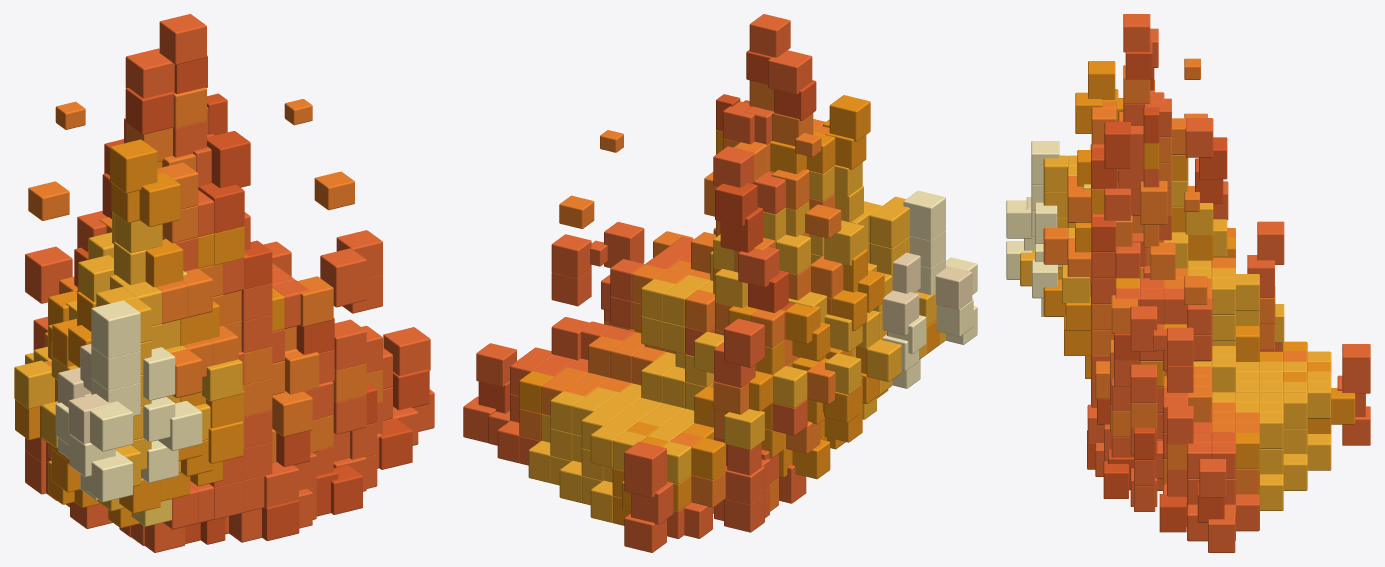
The model's file is SM_Blender_Ember.glb.
The picture shows the model from 3 angles, left to right: view 1: azimuth 30°, elevation 25°; view 2: azimuth 150°, elevation 25°; view 3: azimuth 270°, elevation 25°; orthographic projection. The views are drawn at different scales.
Visible parts, largest first — view 1: SM_Blender_Ember; view 2: SM_Blender_Ember; view 3: SM_Blender_Ember.
Boxes of the visible parts, bbox=[...] form: SM_Blender_Ember: bbox=[14, 14, 434, 552]; SM_Blender_Ember: bbox=[463, 14, 977, 552]; SM_Blender_Ember: bbox=[1006, 14, 1370, 552].
Size of the model in its own units: 1.28 by 1.35 by 1.07.
Materials: 1 (1 with a texture image).
